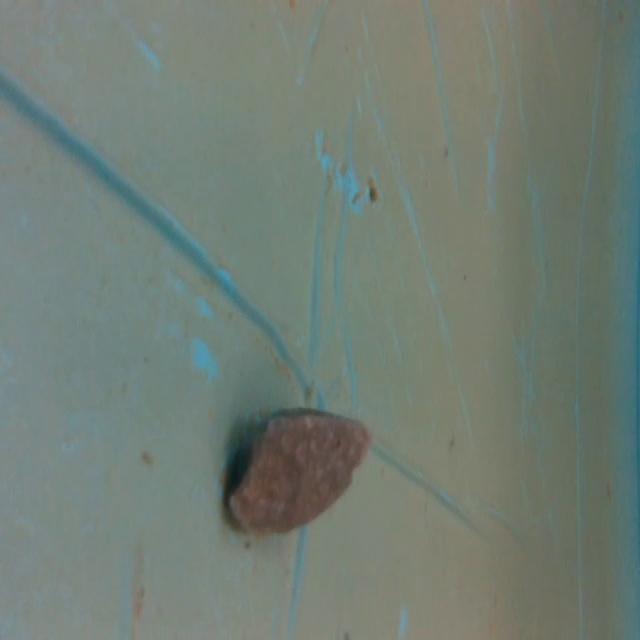rock: (216, 404, 380, 542)
